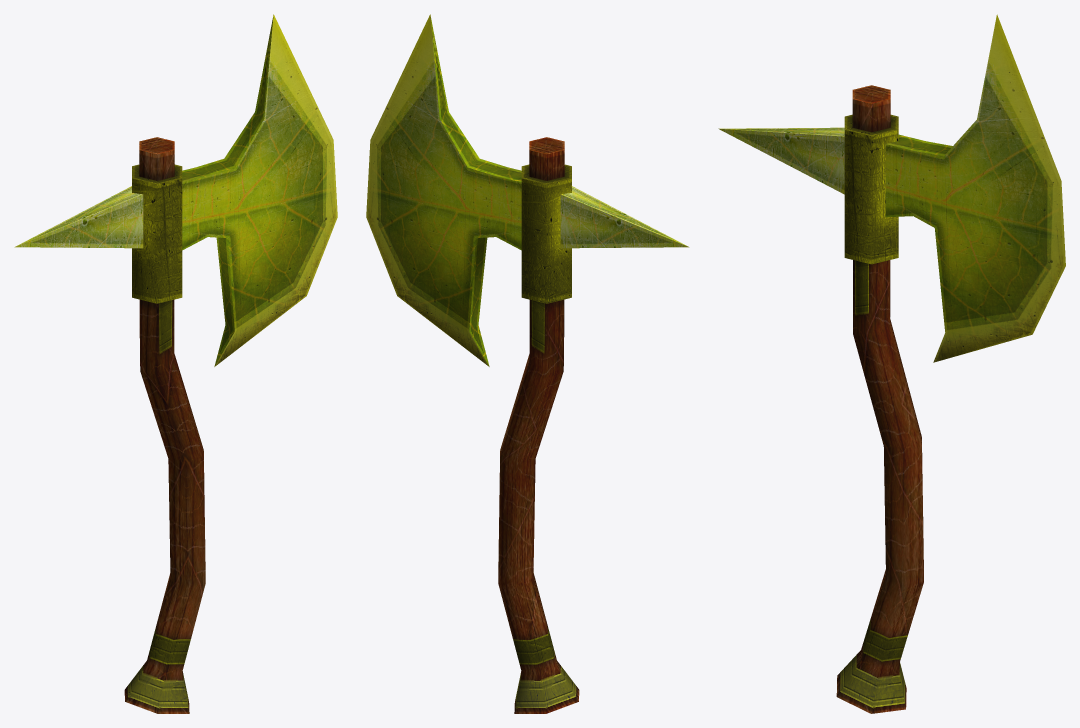
Rendered from axe07_magic.FBX.
3 renders of one model, left to right at view 1: azimuth 30°, elevation 25°; view 2: azimuth 150°, elevation 25°; view 3: azimuth 330°, elevation 25°, orthographic. The views are drawn at different scales.
Parts seen in each view (by area): view 1: axe07; view 2: axe07; view 3: axe07.
Boxes of the visible parts, x1=… form: axe07: x1=14, y1=14, x2=337, y2=713; axe07: x1=366, y1=14, x2=689, y2=713; axe07: x1=718, y1=14, x2=1065, y2=713.
Bounding box in the file's own units: 0.7192 × 1.42 × 0.1267.
